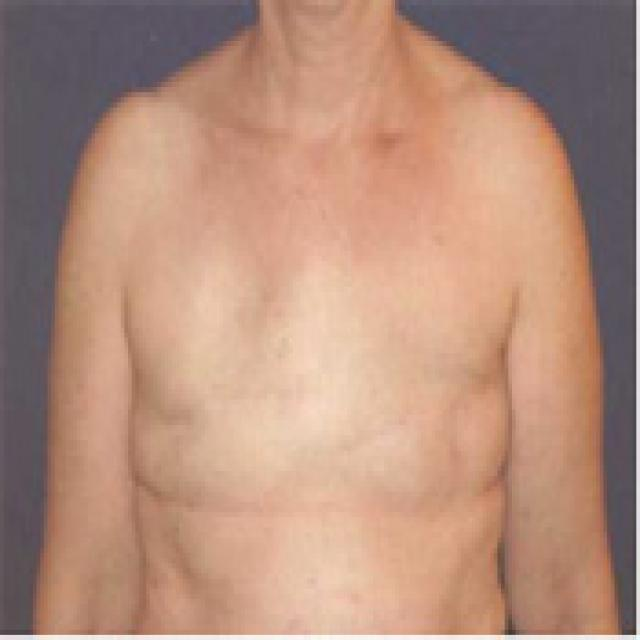Seno herido: (123, 283, 293, 536), (349, 272, 519, 525)
